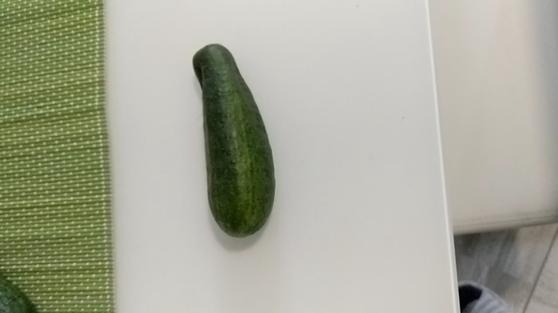cucumber: (193, 43, 277, 238)
